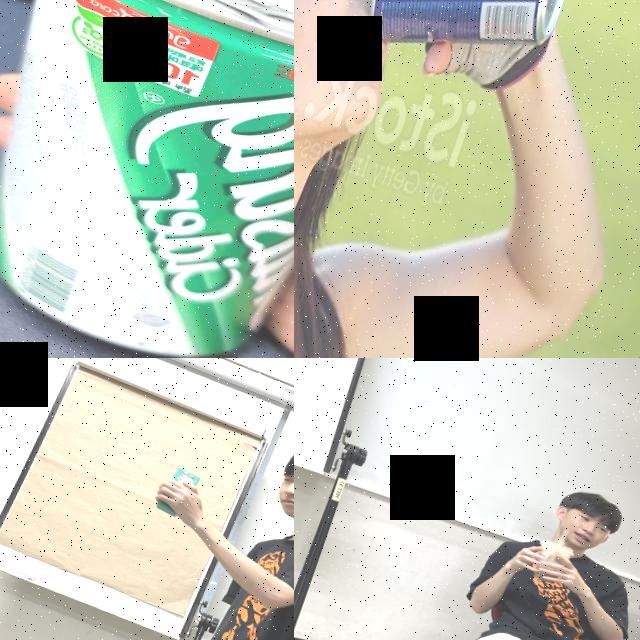can: (0, 0, 294, 358), (348, 0, 595, 101)
cup: (528, 536, 576, 588)
